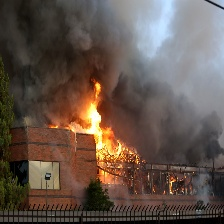fire: (48, 78, 140, 182)
smoke: (3, 3, 118, 126), (128, 69, 224, 163)
